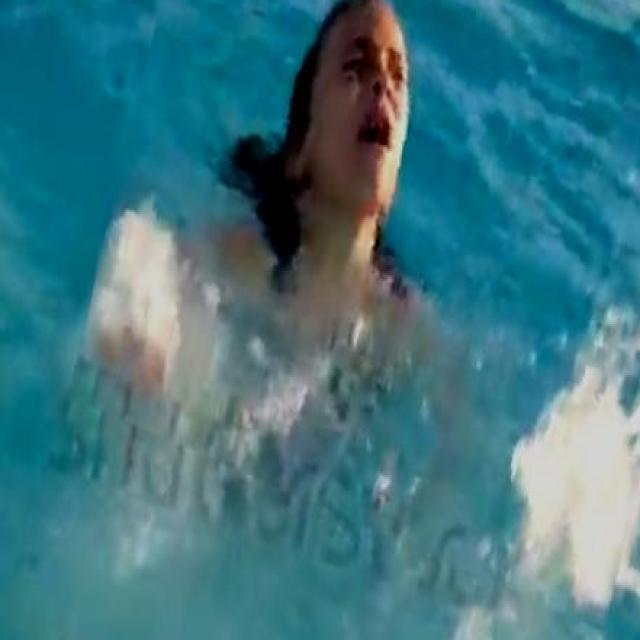Drowning: (101, 3, 463, 417)
